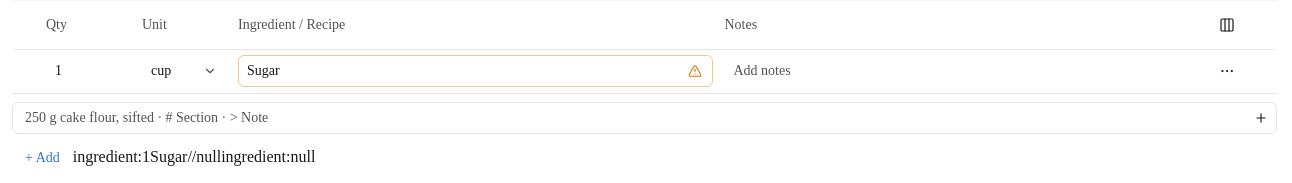
Test: recipe items table quantities › keeps a large quantity whole
This screenshot has width=1292, height=183.
Replace the text in the field named "Quantity" with "225" at coordinates (88, 71), box left=46, top=55, right=130, bottom=87
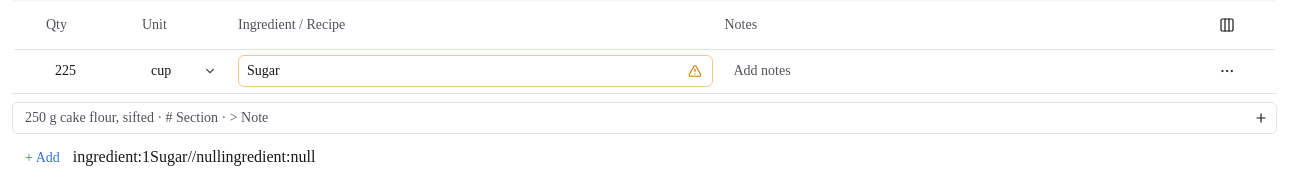
Leave the field named "Quantity", box left=46, top=55, right=130, bottom=87
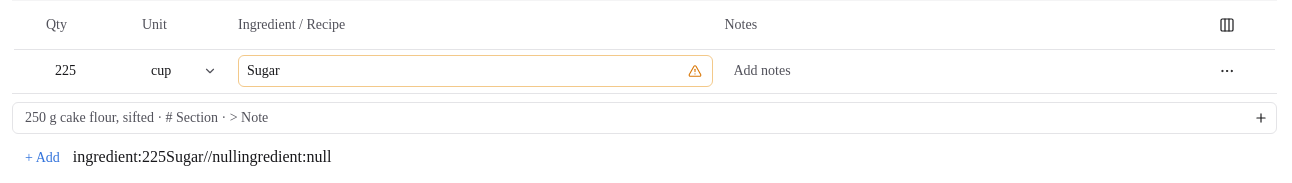
Check: the text with test id "order" reads "ingredient:225", box left=73, top=148, right=166, bottom=165
